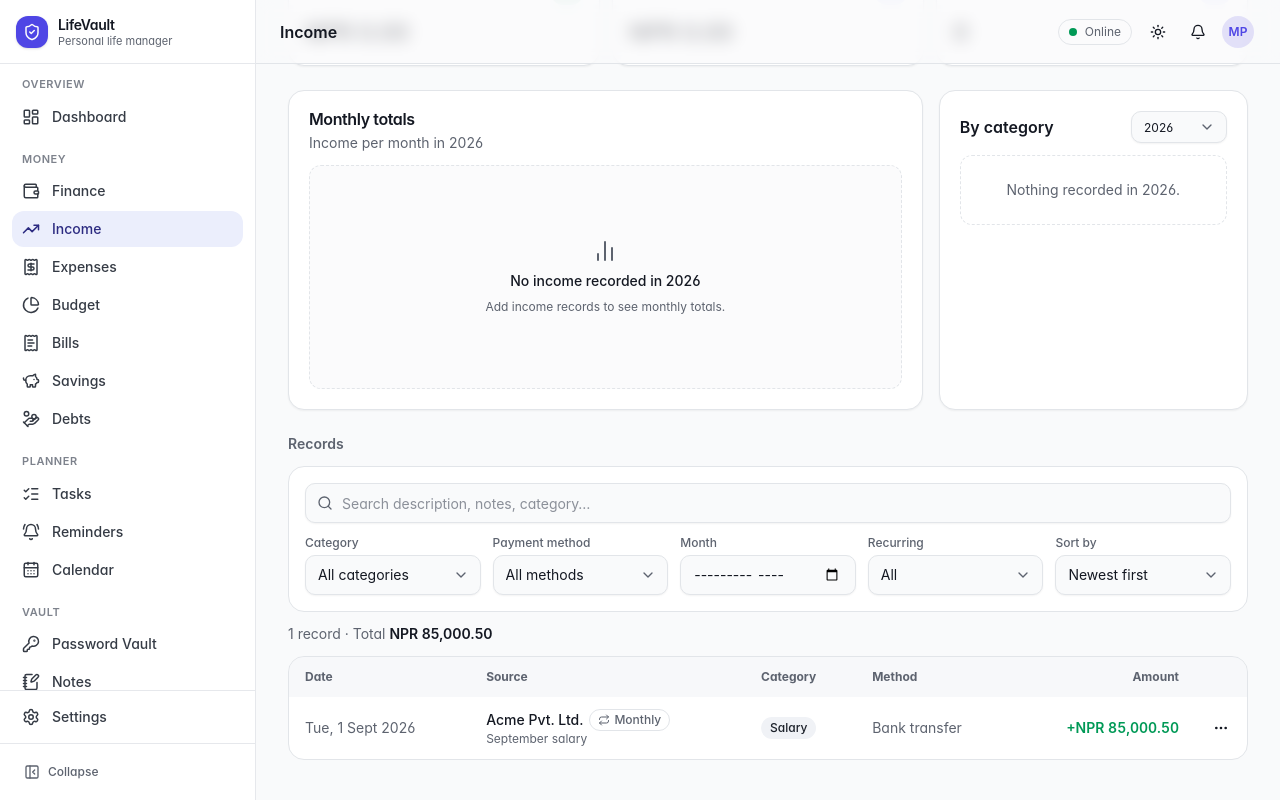
Test: income page › deletes a record only after confirmation
(page scrolled)
// Desktop table and phone cards are both in the DOM (jsdom applies no CSS): use the table.
Click the button named "Actions for Acme Pvt. Ltd." at (1221, 728), box [1203,710,1239,746]
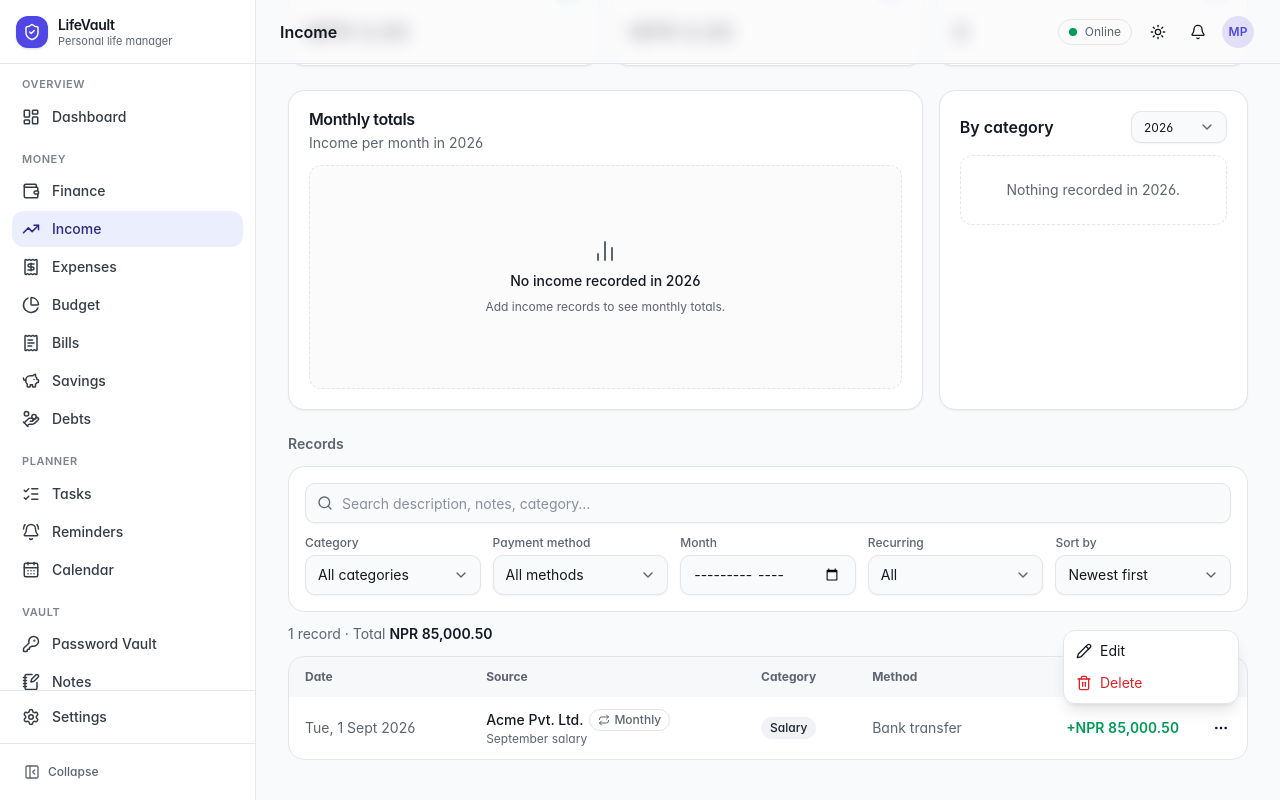
Click the menu item "Delete" at (1109, 682), box [1076,674,1142,691]
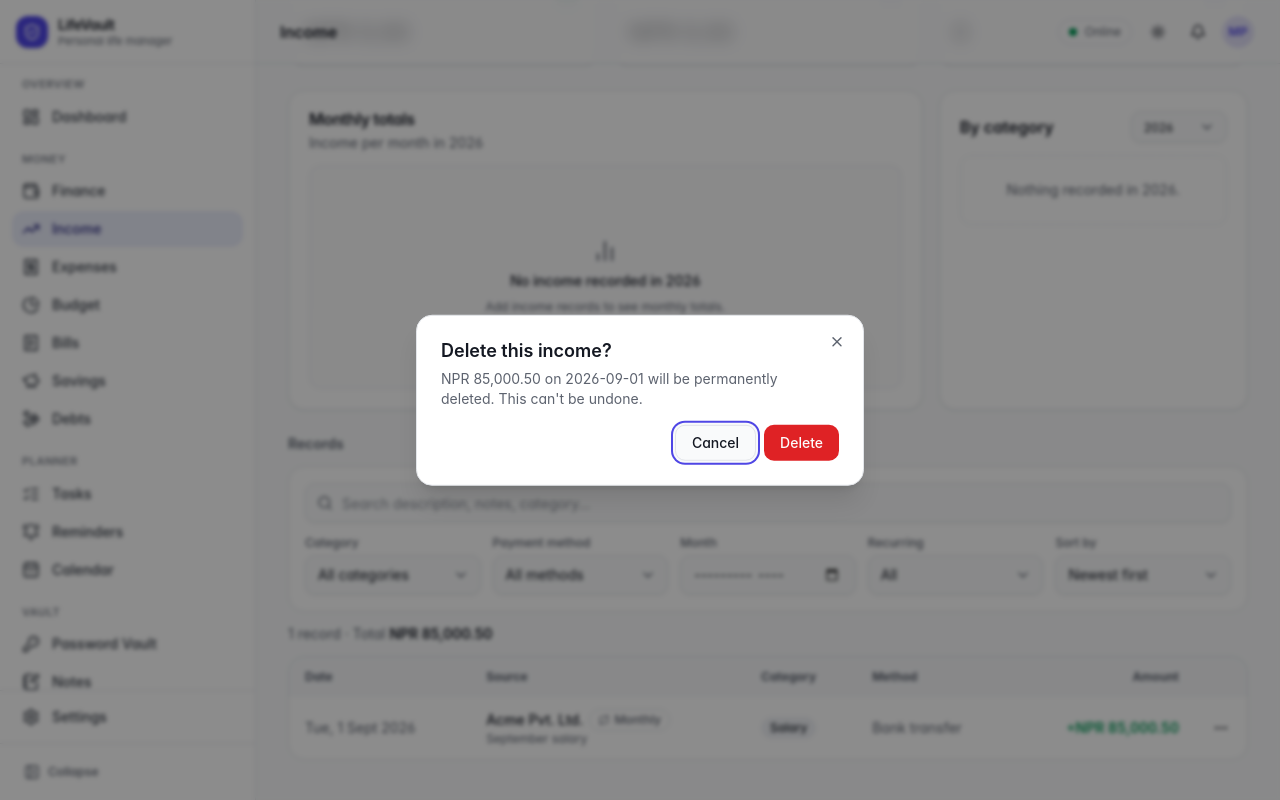
Click the button "Delete" at (802, 442), box [764,424,839,460]
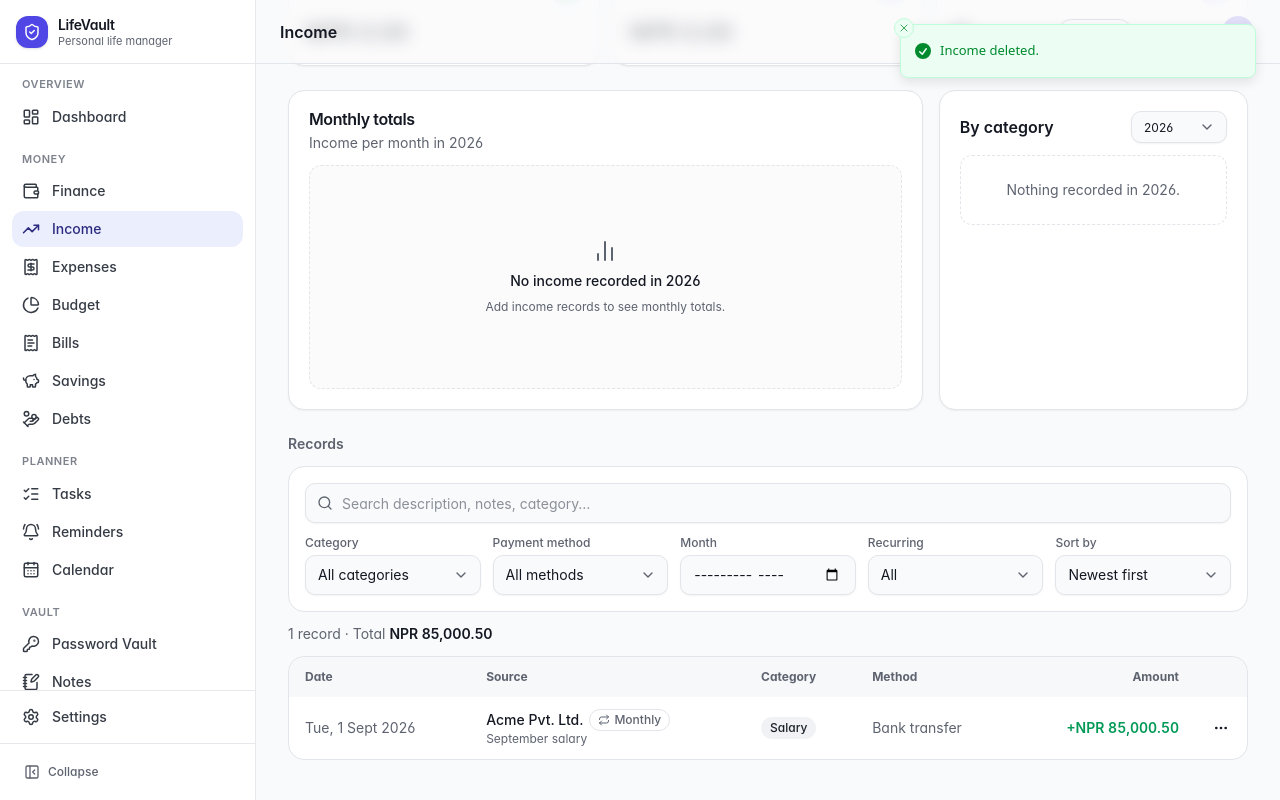
Check: the text "Income deleted." is shown, box [940,41,1039,60]
